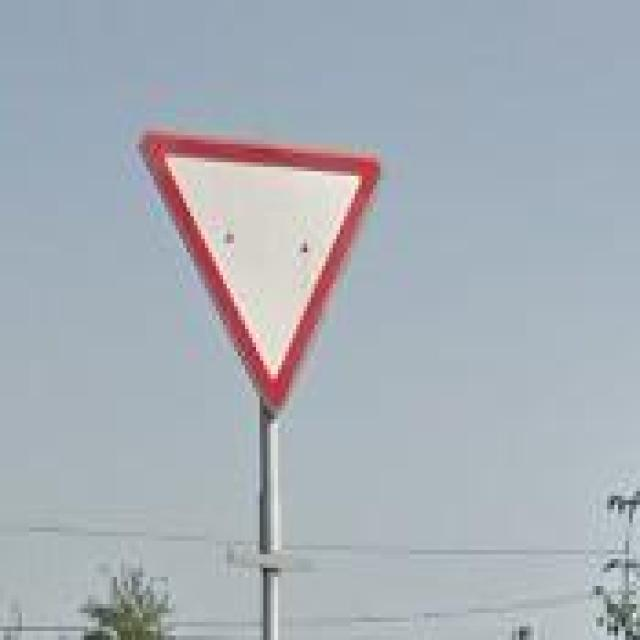give_way: (143, 130, 380, 414)
